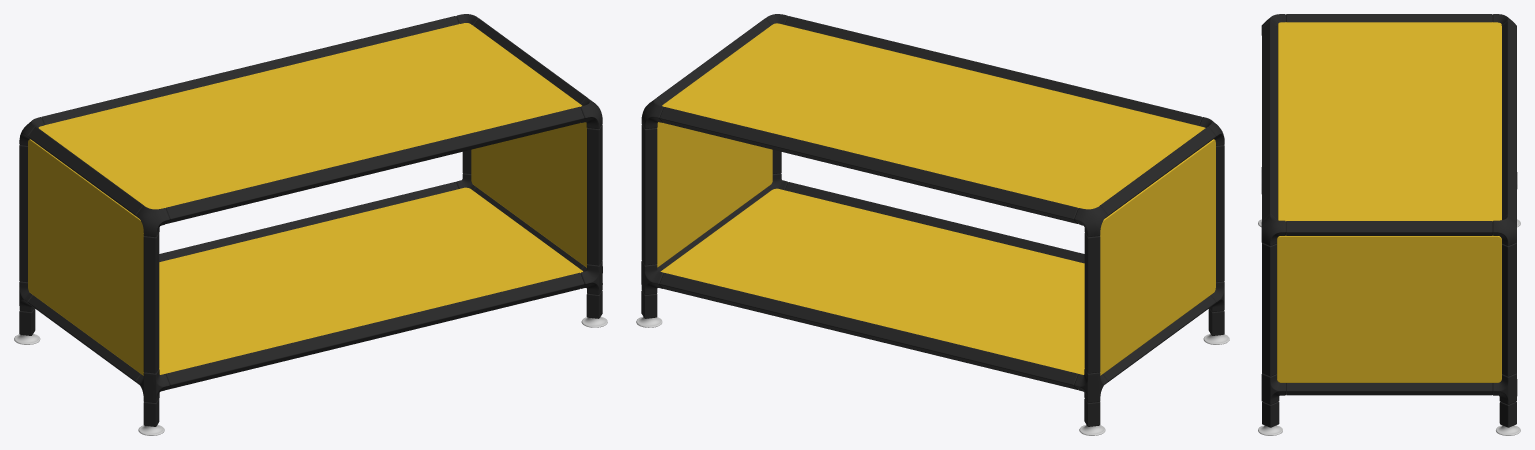
3 renders of one model, left to right at view 1: azimuth 30°, elevation 25°; view 2: azimuth 150°, elevation 25°; view 3: azimuth 270°, elevation 25°, orthographic. The views are drawn at different scales.
Visible parts, largest first — view 1: 729x329x229; view 2: 729x329x229; view 3: 729x329x229.
Part boxes in pixels (<box>): 729x329x229: <box>14,14,607,435</box>; 729x329x229: <box>636,14,1229,435</box>; 729x329x229: <box>1258,14,1520,435</box>.
Bounding box in the file's own units: 0.8189 × 0.3682 × 0.4181.
